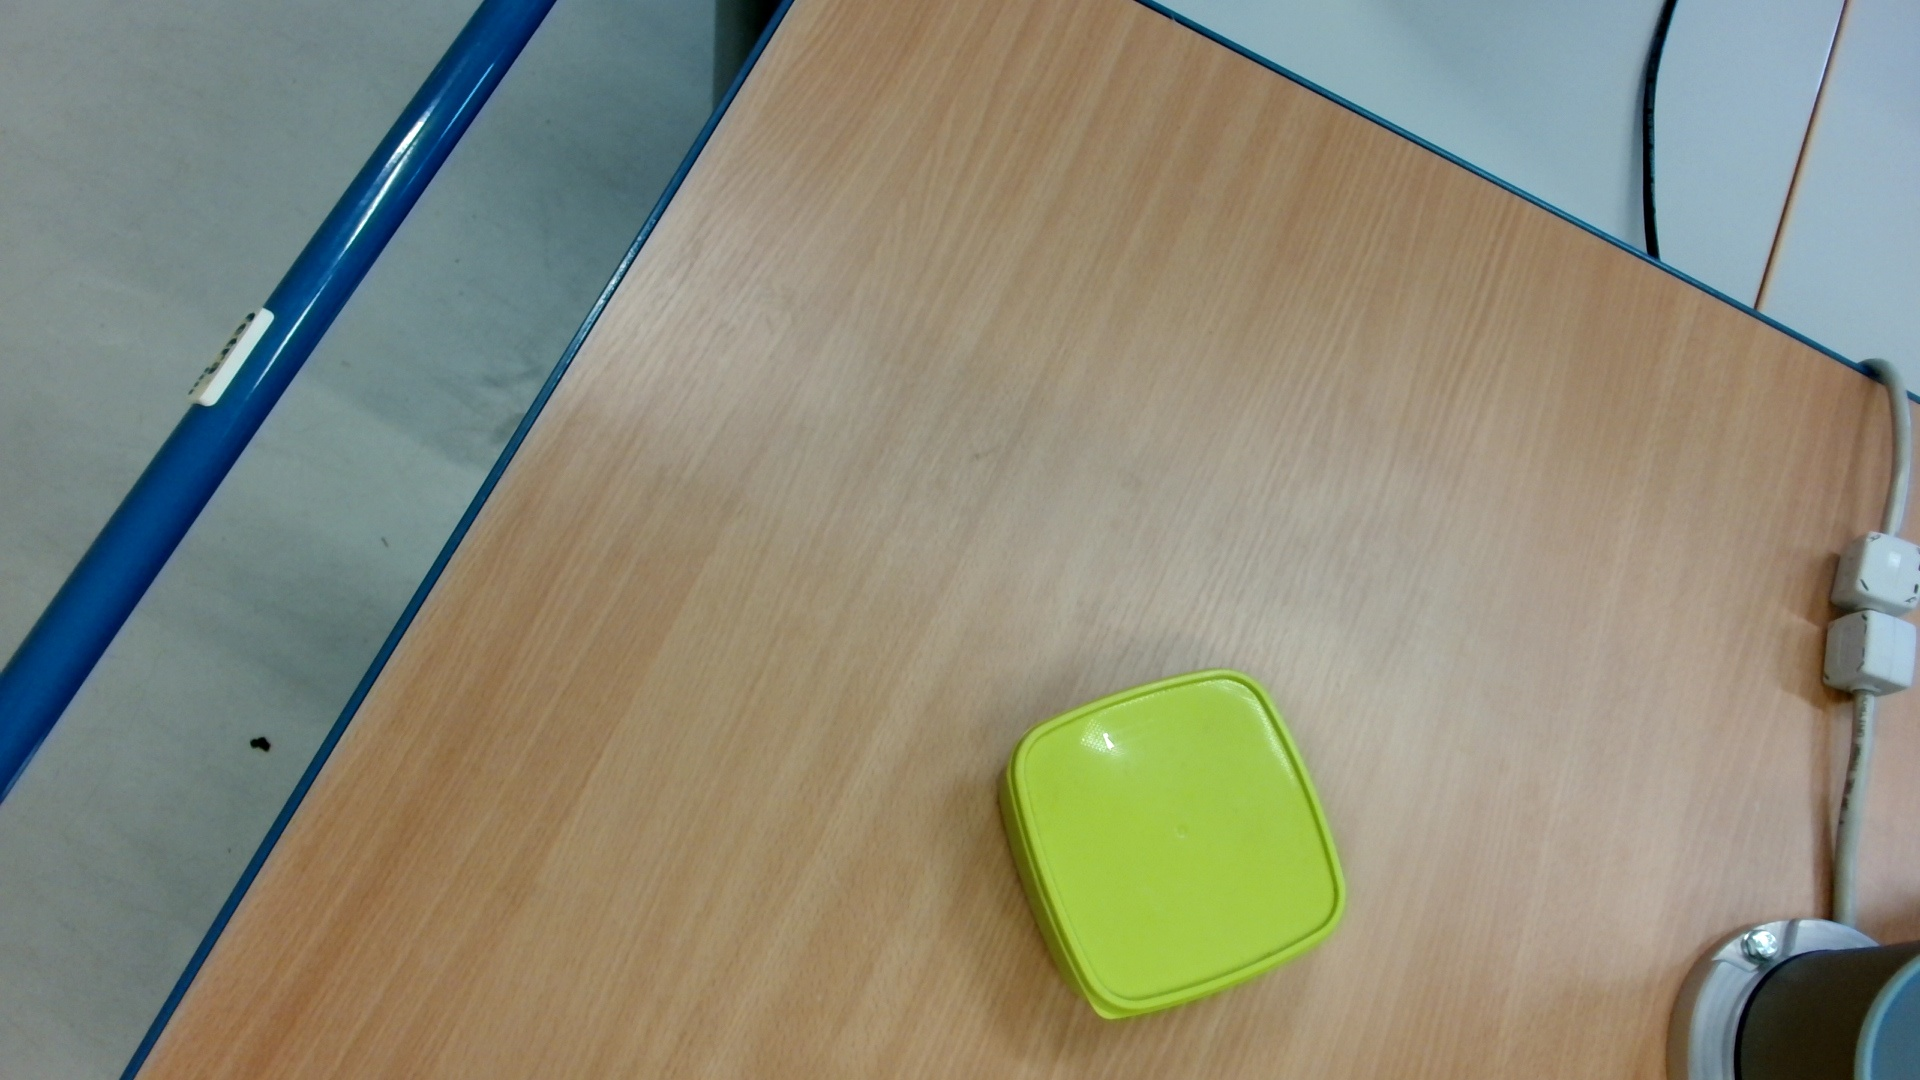Box: (994, 665, 1357, 1026)
